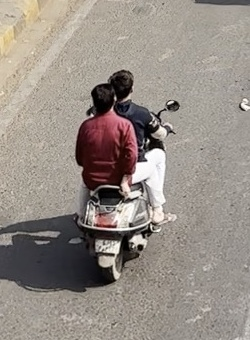BikeWithRider: (68, 65, 183, 285)
NoHelmet: (86, 80, 119, 117), (105, 66, 138, 103)
